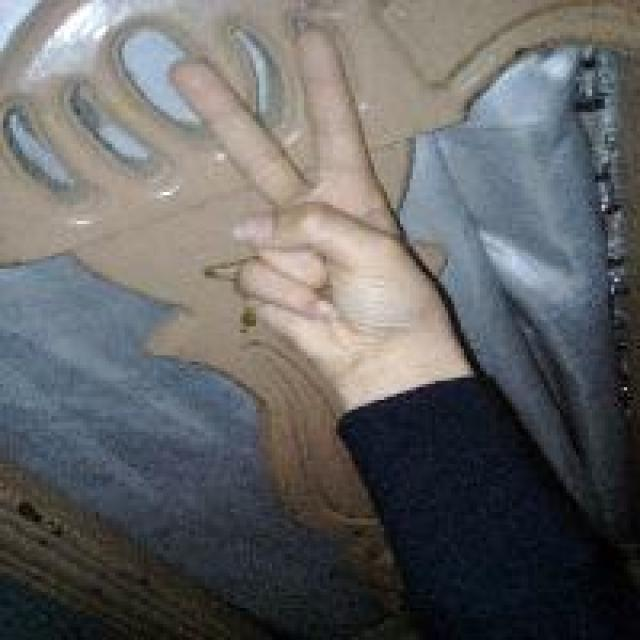V: (166, 24, 480, 357)
